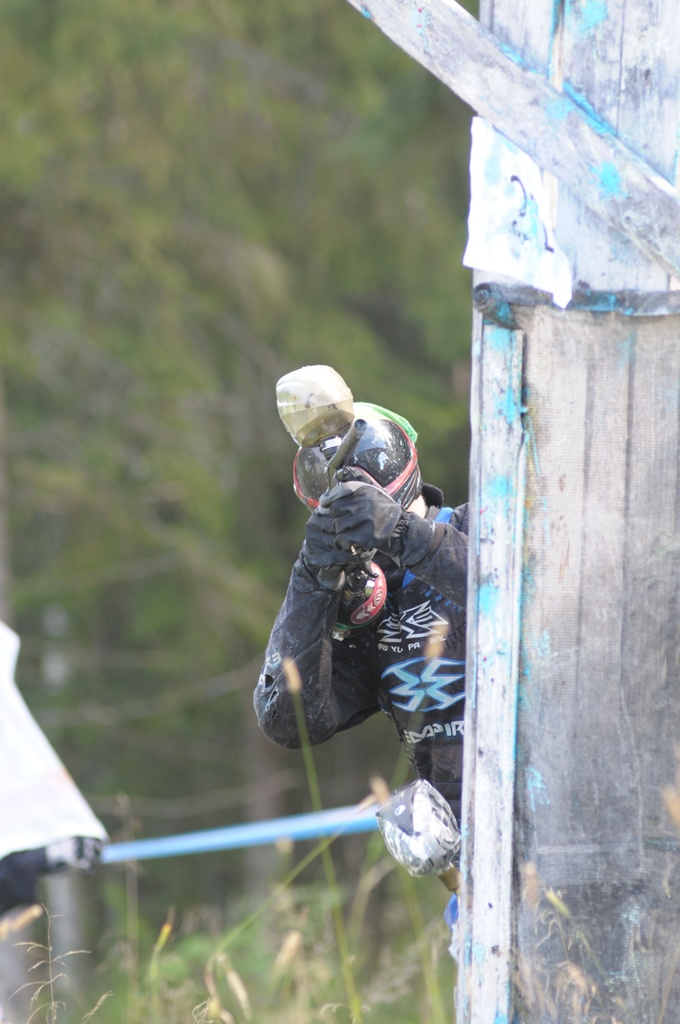Person: (252, 401, 469, 834)
